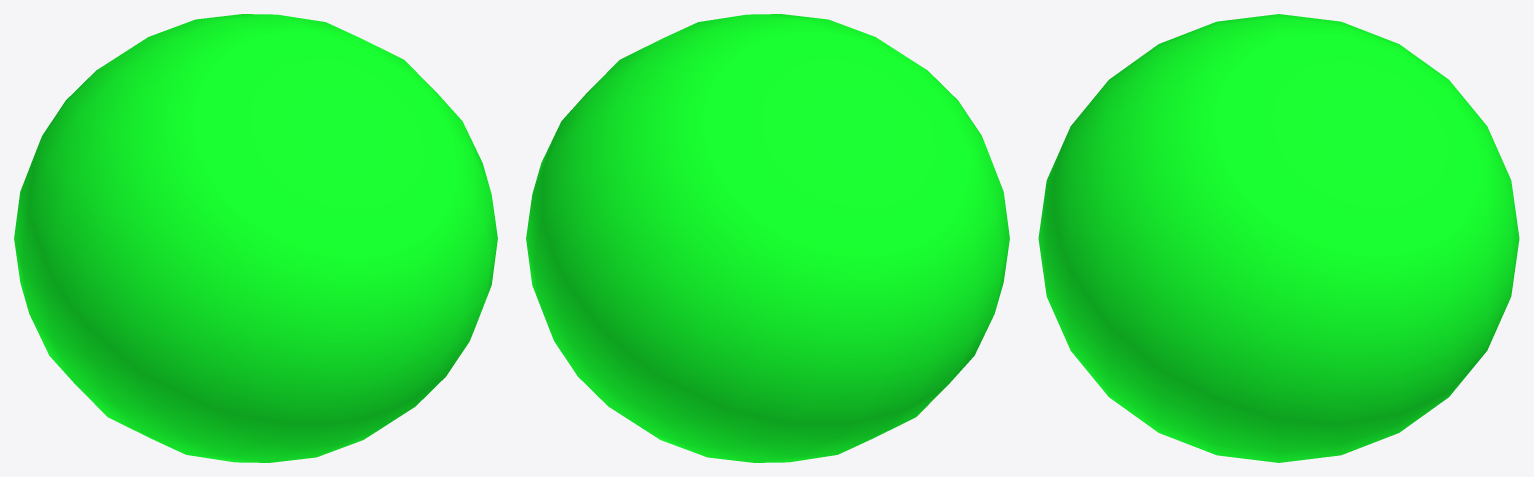
File: shot_retroball_s.glb
3 views of the same model, side by side, from view 1: azimuth 30°, elevation 25°; view 2: azimuth 150°, elevation 25°; view 3: azimuth 270°, elevation 25° (orthographic).
Visible parts, largest first — view 1: rbs_ball; view 2: rbs_ball; view 3: rbs_ball.
Boxes of the visible parts, <box> form: rbs_ball: <box>14,14,497,462</box>; rbs_ball: <box>526,14,1009,462</box>; rbs_ball: <box>1038,14,1519,462</box>.
Bounding box in the file's own units: 9.7 × 8.92 × 9.7.
